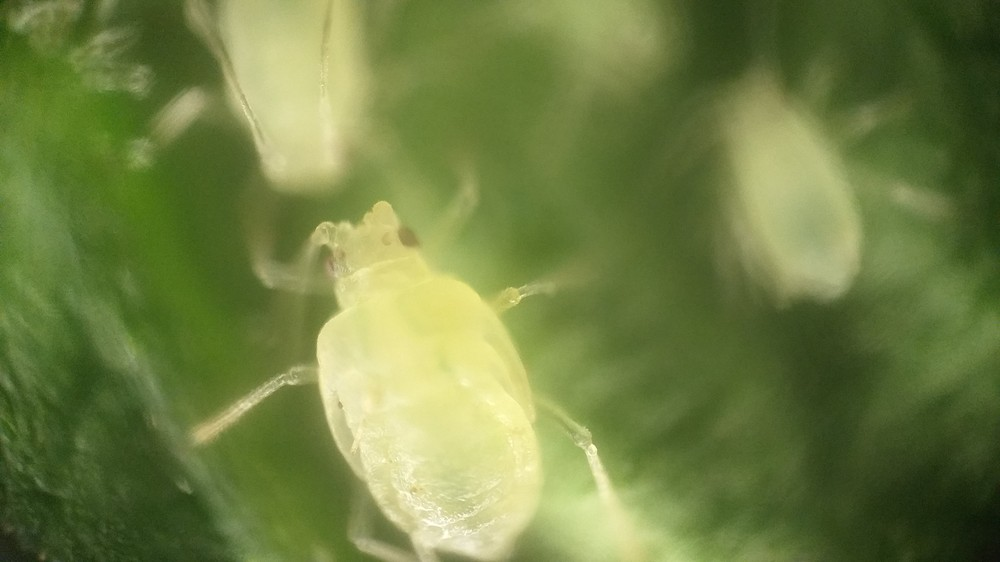Pulgon: (181, 143, 663, 562)
